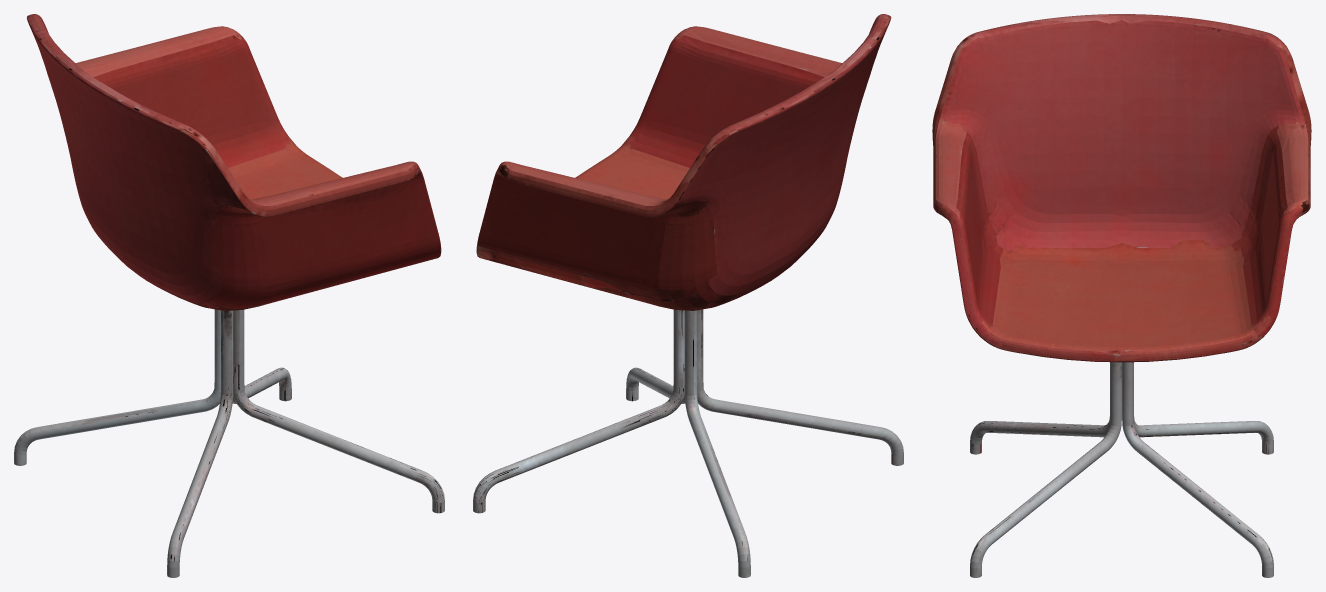
3 views of the same model, side by side, from view 1: azimuth 30°, elevation 25°; view 2: azimuth 150°, elevation 25°; view 3: azimuth 270°, elevation 25° (orthographic). The views are drawn at different scales.
Visible parts, largest first — view 1: Node; view 2: Node; view 3: Node.
Boxes of the visible parts, x1,y1,x2,y2 form: Node: [14, 14, 444, 577]; Node: [473, 14, 903, 577]; Node: [932, 14, 1311, 577].
Size of the model in its own units: 0.5025 by 0.7 by 0.5589.
Materials: 1 (1 with a texture image).
